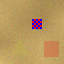structure: (9, 37, 29, 55)
vehicle: (43, 41, 58, 57)
